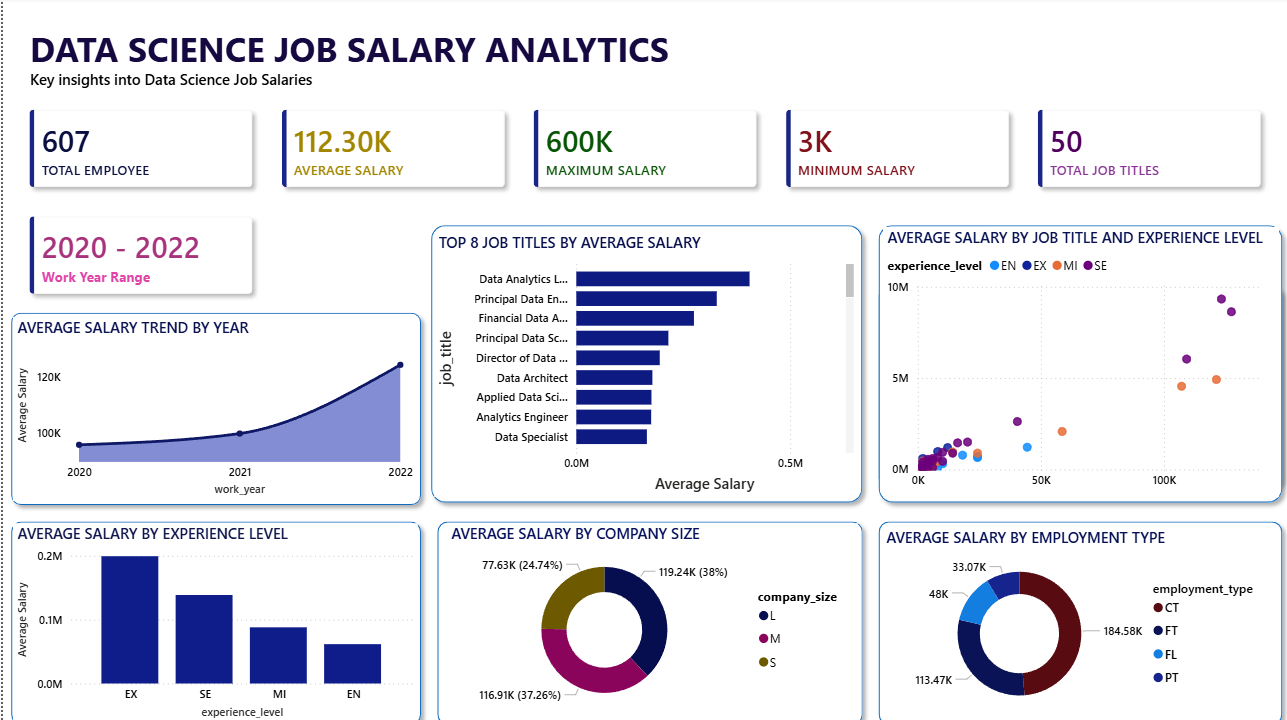

What the dashboard file says about the page in this screenshot:
{"tool":"powerbi","page":{"name":"Page 1","canvas":[1400,800],"ordinal":0},"visuals":[{"type":"cardVisual","fields":{"Data":["ds_salaries (1).Total Employee","ds_salaries (1).Average Salary","ds_salaries (1).Maximum Salary","ds_salaries (1).Minimum Salary","ds_salaries (1).Total Job Titles","ds_salaries (1).Work Year Range"]},"box":[0,93.8,1399.5,258.2],"z":0},{"type":"textbox","box":[24.5,25.8,864.1,67.9],"z":1000},{"type":"textbox","box":[24.5,73.4,364.1,39.4],"z":2000},{"type":"shape","box":[0,561.1,463.3,239.1],"z":3000},{"type":"columnChart","title":"AVERAGE SALARY BY EXPERIENCE LEVEL","fields":{"Y":["ds_salaries (1).Average Salary"],"Category":["ds_salaries (1).experience_level"]},"box":[10.9,572,440.2,217.4],"z":4000},{"type":"shape","box":[0,334.2,463.3,226.9],"z":5000},{"type":"lineChart","title":"AVERAGE SALARY TREND BY YEAR","fields":{"Category":["ds_salaries (1).work_year"],"Y":["ds_salaries (1).Average Salary"]},"box":[10.9,347.8,440.2,199.7],"z":6000},{"type":"shape","box":[456.5,239.1,486.4,319.3],"z":7000},{"type":"barChart","title":"TOP 8 JOB TITLES BY AVERAGE SALARY","fields":{"Y":["ds_salaries (1).Average Salary"],"Category":["ds_salaries (1).job_title"]},"box":[468.8,255.4,460.6,288],"z":8000},{"type":"shape","box":[463,561,480,239],"z":9000},{"type":"shape","box":[942.9,304.3,456.5,239.1],"z":10000},{"type":"donutChart","title":"AVERAGE SALARY BY COMPANY SIZE","fields":{"Y":["ds_salaries (1).Average Salary"],"Category":["ds_salaries (1).company_size"]},"box":[482.3,572,447,210.6],"z":11000},{"type":"shape","box":[942.9,239.1,456.5,319.3],"z":12000},{"type":"scatterChart","title":"AVERAGE SALARY BY JOB TITLE AND EXPERIENCE LEVEL","fields":{"X":["Sum(ds_salaries (1).work_year)"],"Y":["Sum(ds_salaries (1).salary_in_usd)"],"Series":["ds_salaries (1).experience_level"],"Category":["ds_salaries (1).job_title"]},"box":[956.5,250,430.7,293.5],"z":13000},{"type":"shape","box":[942.9,561.1,456.5,239.1],"z":14000},{"type":"donutChart","title":"AVERAGE SALARY BY EMPLOYMENT TYPE","fields":{"Y":["ds_salaries (1).Average Salary"],"Category":["ds_salaries (1).employment_type"]},"box":[955.2,576.1,430.7,210.6],"z":15000}]}

Visuals, with their boxes in screenshot pixels (x1, y1, x2, y2), scaled from the page's 1400x800 canvas onto the 1287x720 screenshot:
cardVisual - ds_salaries (1).Total Employee x ds_salaries (1).Average Salary: 0 84 1286 317
textbox: 23 23 817 84
textbox: 23 66 357 102
shape: 0 505 426 719
"AVERAGE SALARY BY EXPERIENCE LEVEL" columnChart: 10 515 415 710
shape: 0 301 426 505
"AVERAGE SALARY TREND BY YEAR" lineChart: 10 313 415 493
shape: 420 215 867 503
"TOP 8 JOB TITLES BY AVERAGE SALARY" barChart: 431 230 854 489
shape: 426 505 867 719
shape: 867 274 1286 489
"AVERAGE SALARY BY COMPANY SIZE" donutChart: 443 515 854 704
shape: 867 215 1286 503
"AVERAGE SALARY BY JOB TITLE AND EXPERIENCE LEVEL" scatterChart: 879 225 1275 489
shape: 867 505 1286 719
"AVERAGE SALARY BY EMPLOYMENT TYPE" donutChart: 878 518 1274 708
